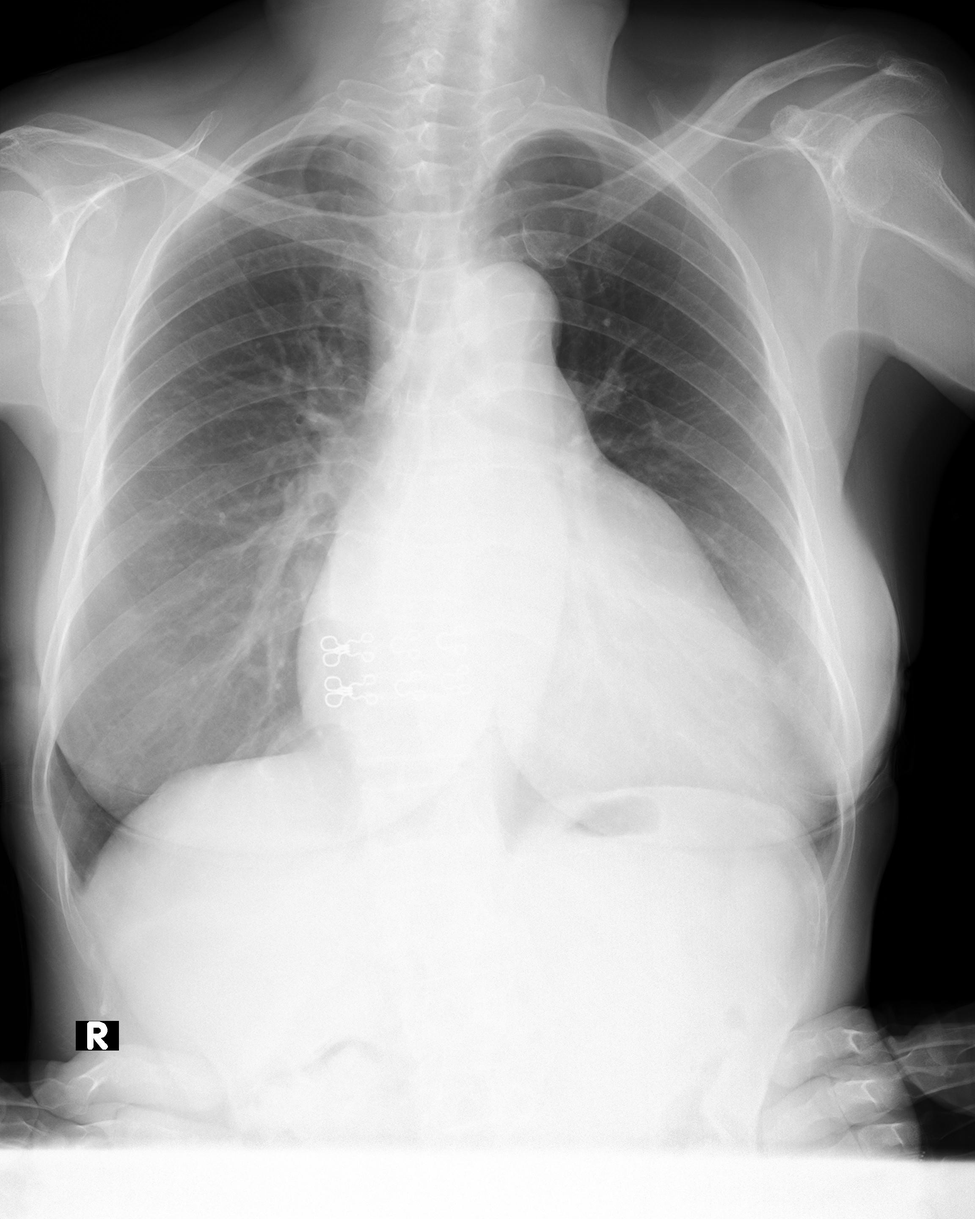Aortic enlargement: (446, 258, 564, 359)
Cardiomegaly: (291, 639, 794, 817)
Pleural thickening: (253, 128, 375, 155)
